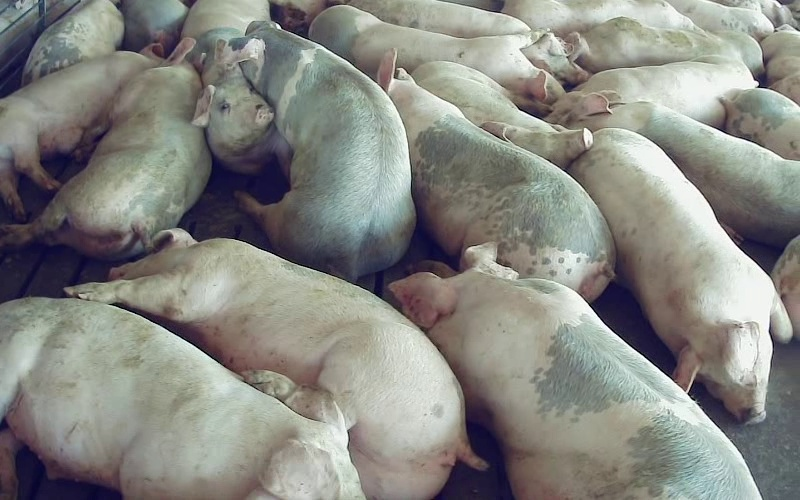pig: (66, 228, 485, 499), (390, 244, 759, 499), (568, 128, 791, 421), (377, 50, 614, 300), (222, 21, 415, 281), (0, 39, 211, 259), (577, 102, 799, 246), (0, 44, 162, 220), (309, 5, 563, 104), (412, 61, 592, 167), (181, 0, 288, 173), (547, 55, 756, 128), (566, 17, 762, 77), (722, 88, 799, 160), (761, 24, 799, 104)
